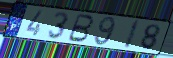3: (47, 11, 71, 40)
4: (25, 10, 44, 37)
8: (140, 23, 163, 51)
9: (93, 16, 117, 47)
B: (66, 13, 95, 44)
I: (122, 19, 141, 50)
